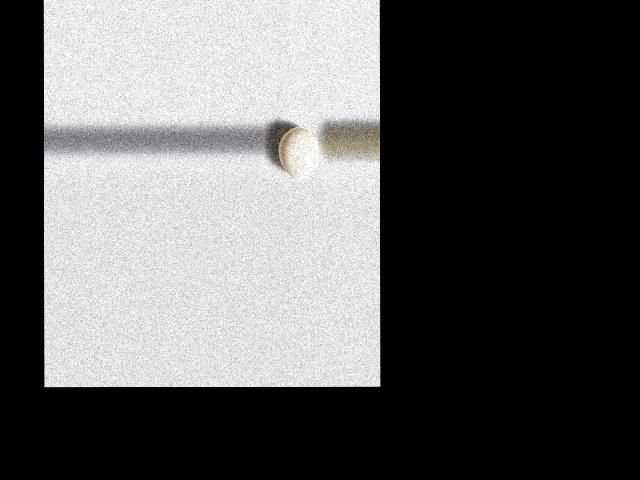egg: (278, 126, 319, 178)
